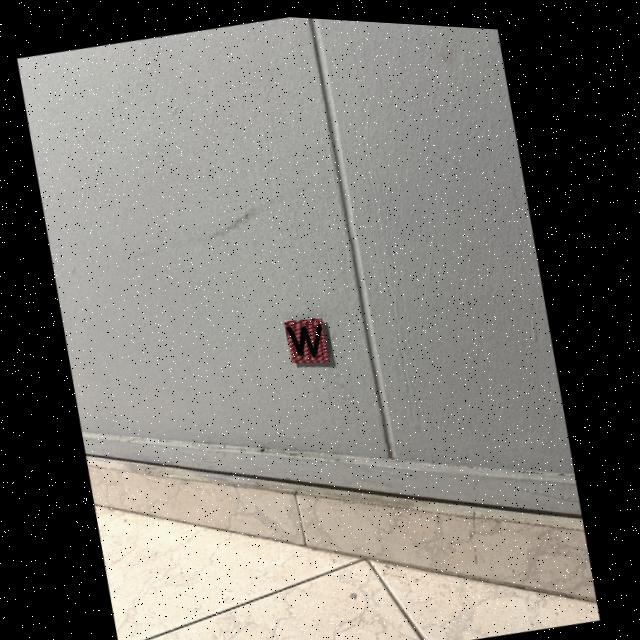W: (289, 320, 324, 353)
